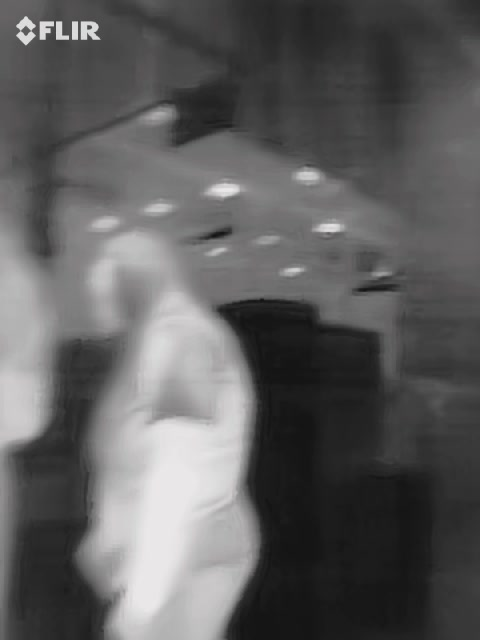head: (85, 229, 177, 328)
